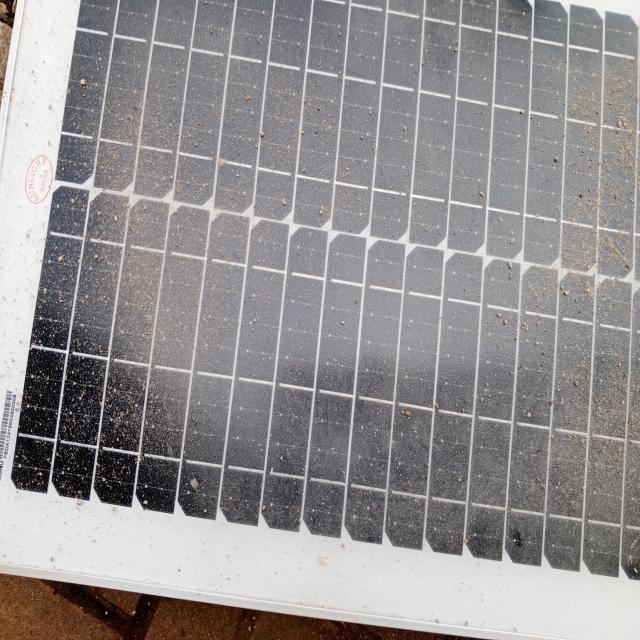Surface Contaminant: (39, 2, 639, 573)
